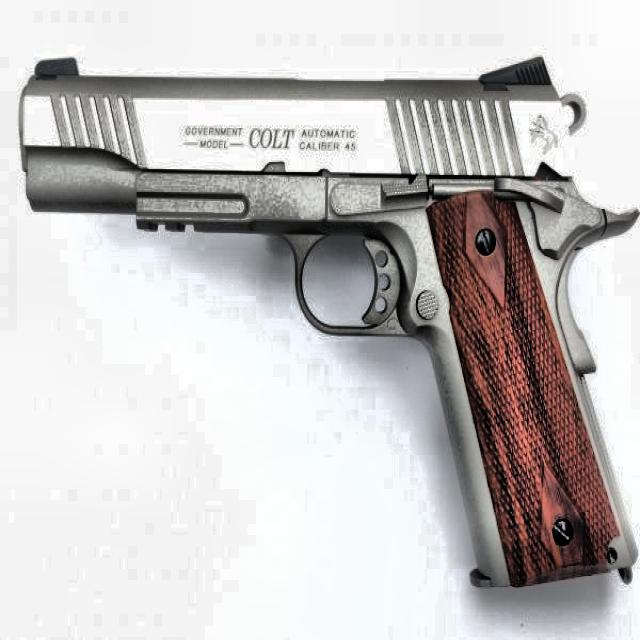Colt m1911: (16, 51, 638, 590)
